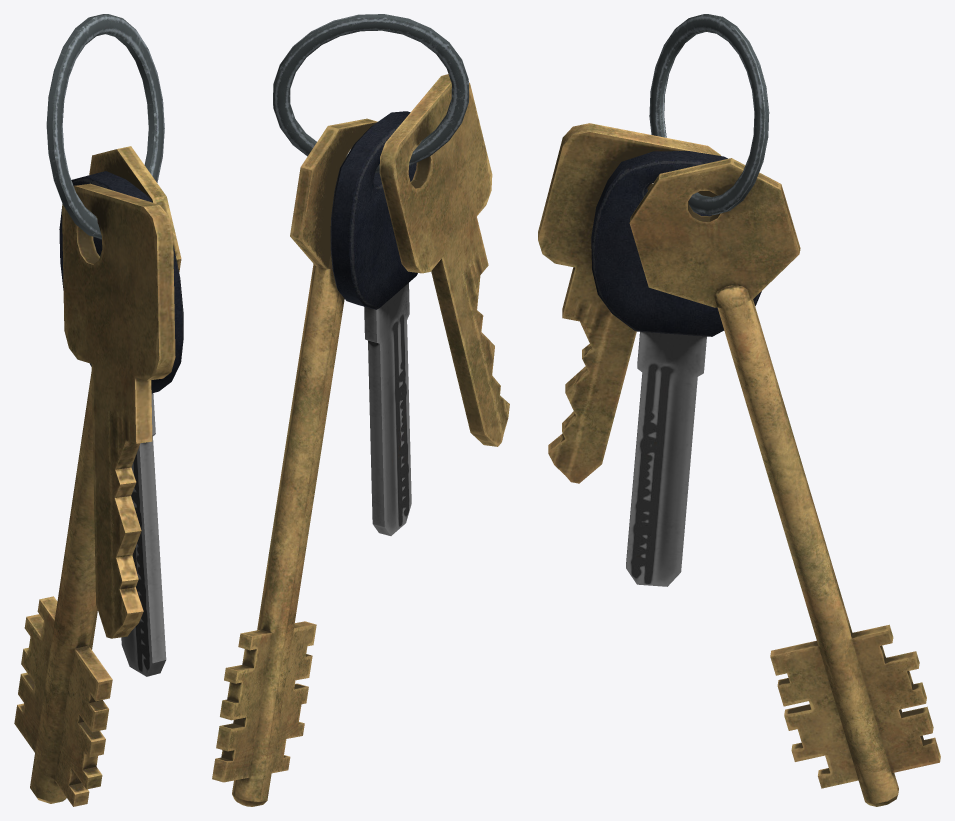
Rendered from key.fbx.
The picture shows the model from 3 angles, left to right: view 1: azimuth 30°, elevation 25°; view 2: azimuth 150°, elevation 25°; view 3: azimuth 270°, elevation 25°; orthographic projection. The views are drawn at different scales.
Parts seen in each view (by area): view 1: defaultMaterial, defaultMaterial.003, defaultMaterial.002, defaultMaterial.001; view 2: defaultMaterial.003, defaultMaterial, defaultMaterial.002, defaultMaterial.001; view 3: defaultMaterial.003, defaultMaterial.002, defaultMaterial, defaultMaterial.001.
Boxes of the visible parts, bbox=[...] form: defaultMaterial: bbox=[62, 183, 175, 638]; defaultMaterial.003: bbox=[14, 146, 181, 806]; defaultMaterial.002: bbox=[59, 171, 183, 676]; defaultMaterial.001: bbox=[46, 14, 164, 238]; defaultMaterial.003: bbox=[212, 118, 377, 806]; defaultMaterial: bbox=[379, 74, 509, 446]; defaultMaterial.002: bbox=[330, 111, 417, 535]; defaultMaterial.001: bbox=[273, 14, 468, 172]; defaultMaterial.003: bbox=[629, 158, 940, 806]; defaultMaterial.002: bbox=[591, 151, 761, 586]; defaultMaterial: bbox=[538, 123, 720, 483]; defaultMaterial.001: bbox=[649, 14, 769, 214].
Bounding box in the file's own units: 0.6403 × 3.1 × 1.49.
4 materials, 4 textured.
